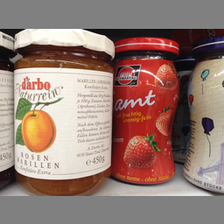jam: (13, 29, 114, 196), (113, 37, 180, 186), (184, 38, 224, 194)
